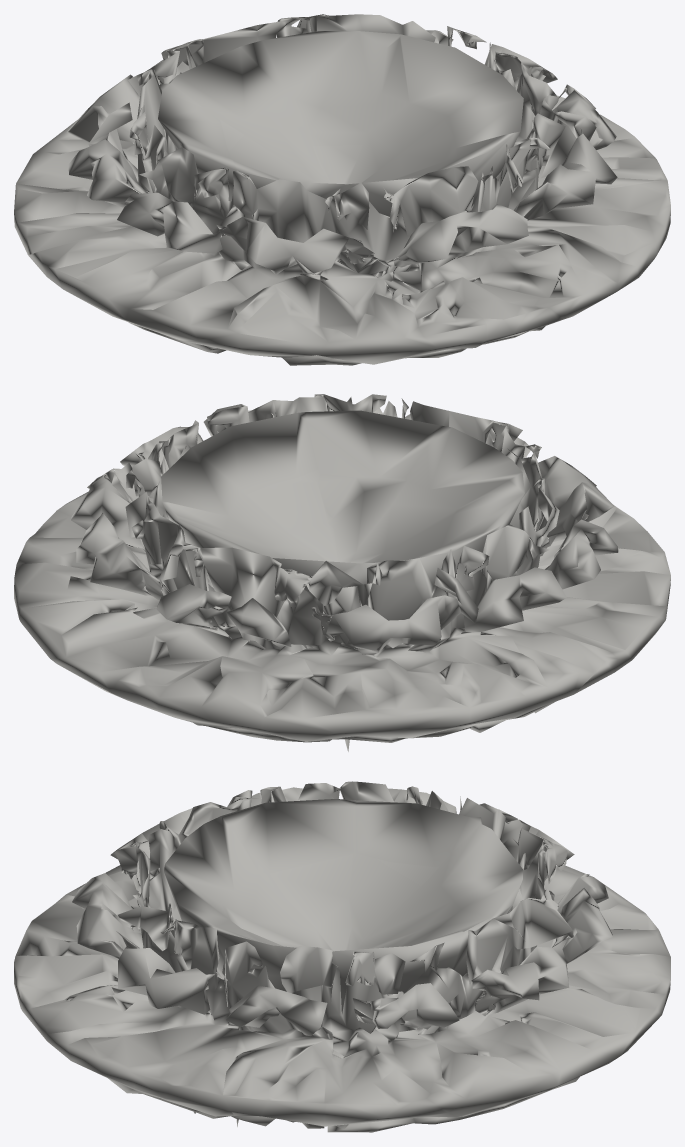
Rendered from round-stone.glb.
The picture shows the model from 3 angles, top to bottom: view 1: azimuth 30°, elevation 25°; view 2: azimuth 150°, elevation 25°; view 3: azimuth 270°, elevation 25°; orthographic projection.
Visible parts, largest first — view 1: tripo_node_467bcfd5-43cc-4017-9670-0b3c6774a791; view 2: tripo_node_467bcfd5-43cc-4017-9670-0b3c6774a791; view 3: tripo_node_467bcfd5-43cc-4017-9670-0b3c6774a791.
Part boxes in pixels (box(x1,y1,x2,y2)): tripo_node_467bcfd5-43cc-4017-9670-0b3c6774a791: box(14, 14, 670, 365); tripo_node_467bcfd5-43cc-4017-9670-0b3c6774a791: box(14, 394, 670, 751); tripo_node_467bcfd5-43cc-4017-9670-0b3c6774a791: box(14, 781, 670, 1132).
Bounding box in the file's own units: 0.9973 × 0.4251 × 0.9967.
Materials: 1 (1 with a texture image).
